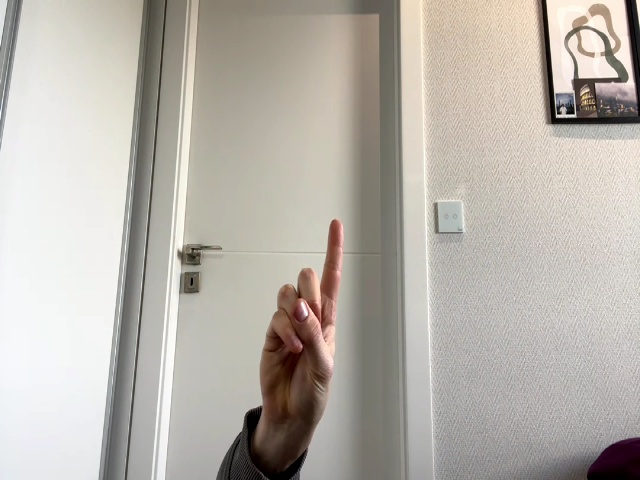Z: (260, 219, 343, 432)
